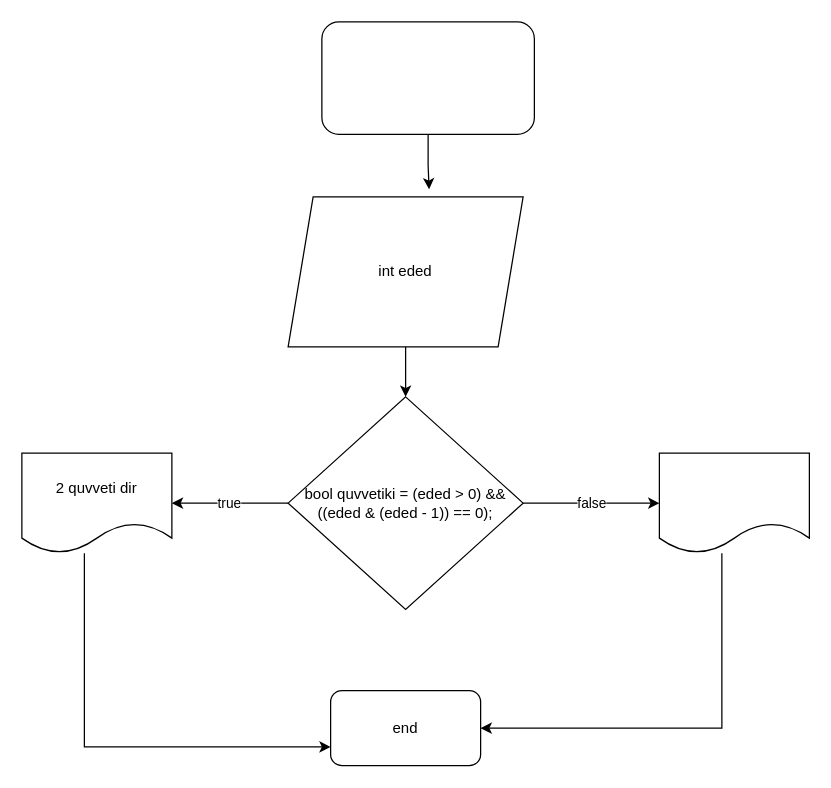
This 831x788 diagram has some shape labels left out. Each missing label, with the centre of its shape:
"2 quvveti deyil" goes at (733,502).
"start" goes at (427,77).
